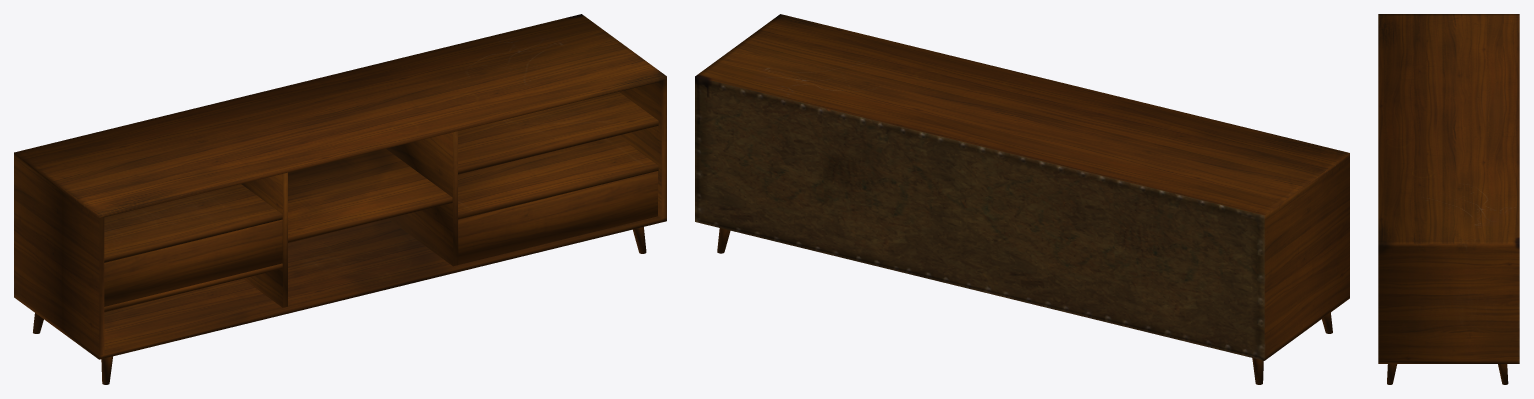
File: tv_stand_retro.glb
3 renders of one model, left to right at view 1: azimuth 30°, elevation 25°; view 2: azimuth 150°, elevation 25°; view 3: azimuth 270°, elevation 25°, orthographic. The views are drawn at different scales.
Parts seen in each view (by area): view 1: Object_2; view 2: Object_2; view 3: Object_2.
Part boxes in pixels (x1=…): Object_2: x1=14, y1=14, x2=666, y2=384; Object_2: x1=695, y1=14, x2=1349, y2=384; Object_2: x1=1378, y1=14, x2=1519, y2=384.
Bounding box in the file's own units: 57.87 × 17.26 × 15.03.
1 material, 1 textured.
